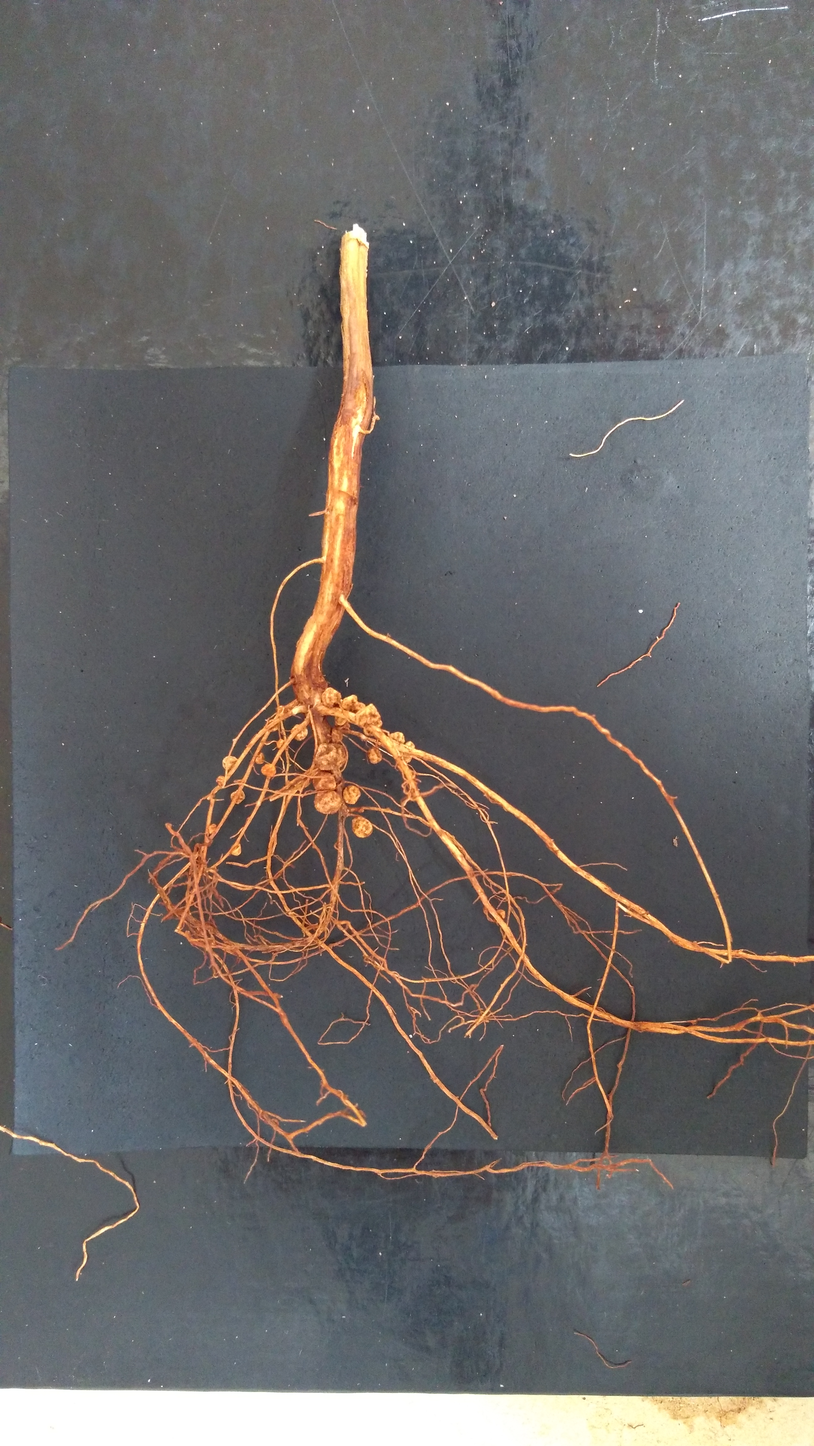nodule: (314, 742, 348, 772), (312, 790, 343, 815), (355, 702, 383, 729), (318, 685, 344, 710), (311, 770, 339, 792), (351, 815, 375, 839), (341, 693, 366, 715), (288, 722, 311, 745), (342, 784, 361, 806), (218, 754, 243, 770), (402, 739, 417, 763), (367, 745, 383, 765), (230, 789, 246, 805), (260, 763, 277, 778), (230, 840, 244, 858), (389, 730, 405, 745), (331, 727, 345, 744), (213, 774, 228, 789), (333, 715, 348, 726), (254, 752, 265, 765), (208, 822, 217, 836), (496, 908, 507, 919), (276, 738, 285, 749)
